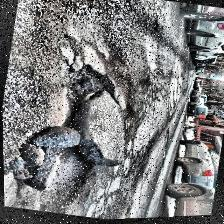pothole: (36, 146, 94, 218), (62, 61, 120, 111)
